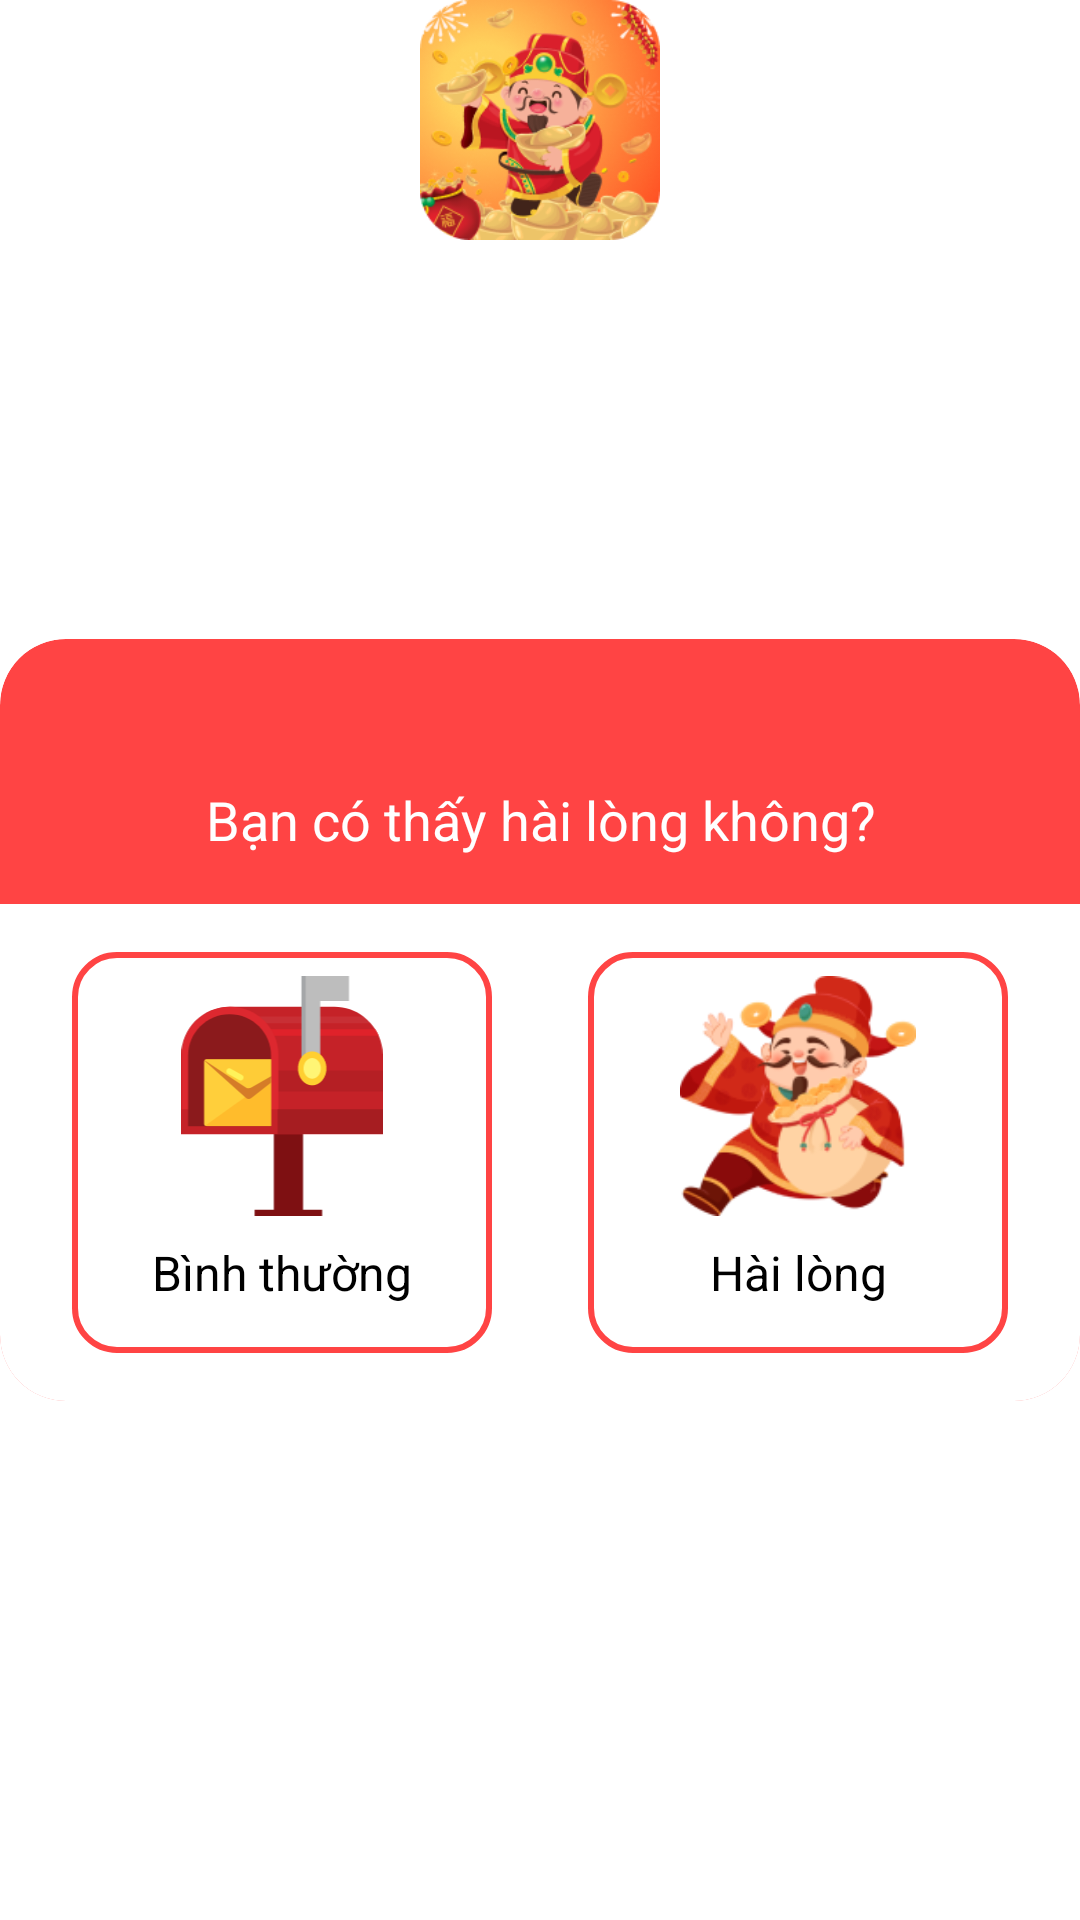

Screen size 1080x1920. Icon name, then its center in pixels as [x,y]:
rate feedback: [282,1096]
